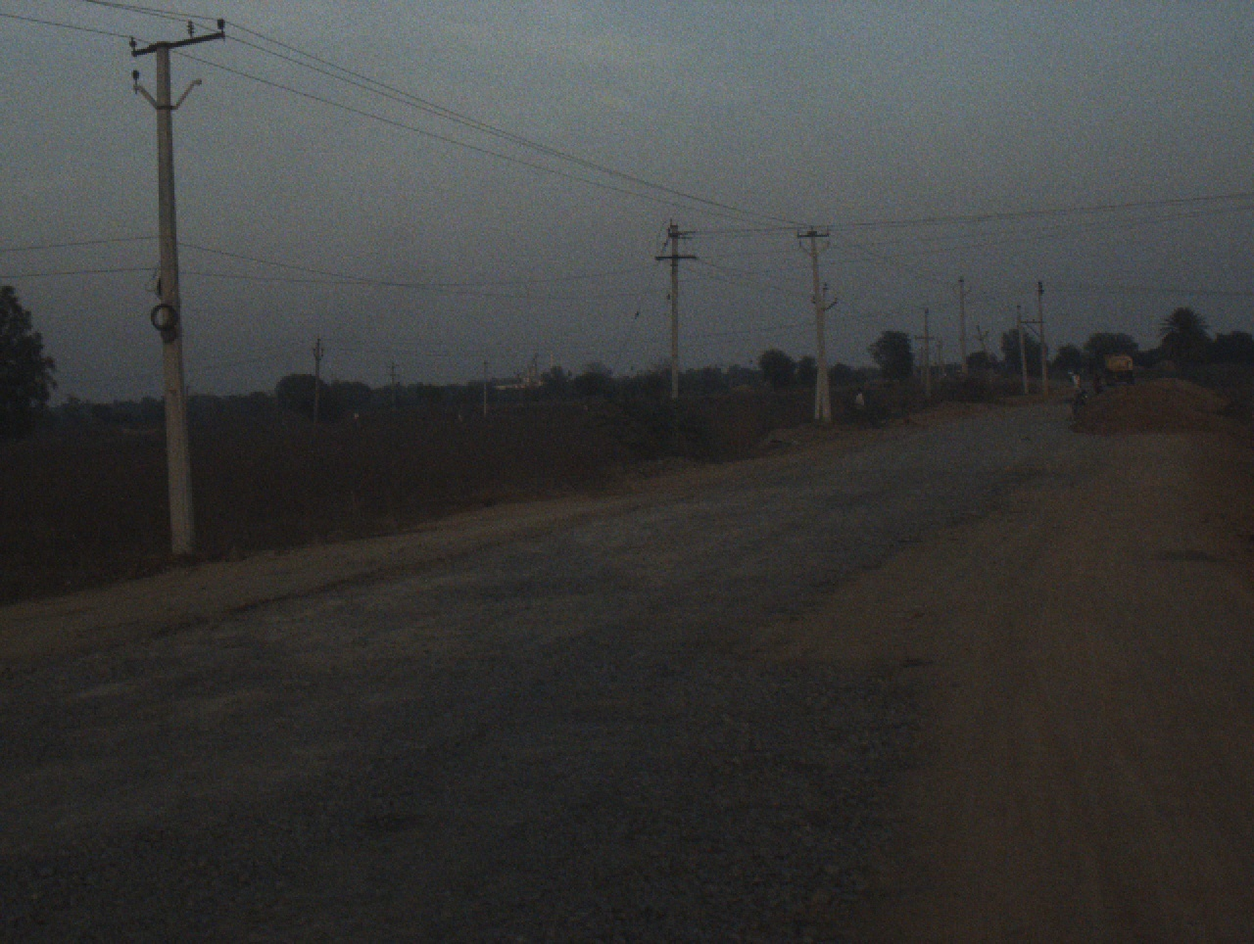person: (851, 381, 867, 407)
truck: (1098, 347, 1139, 383)
